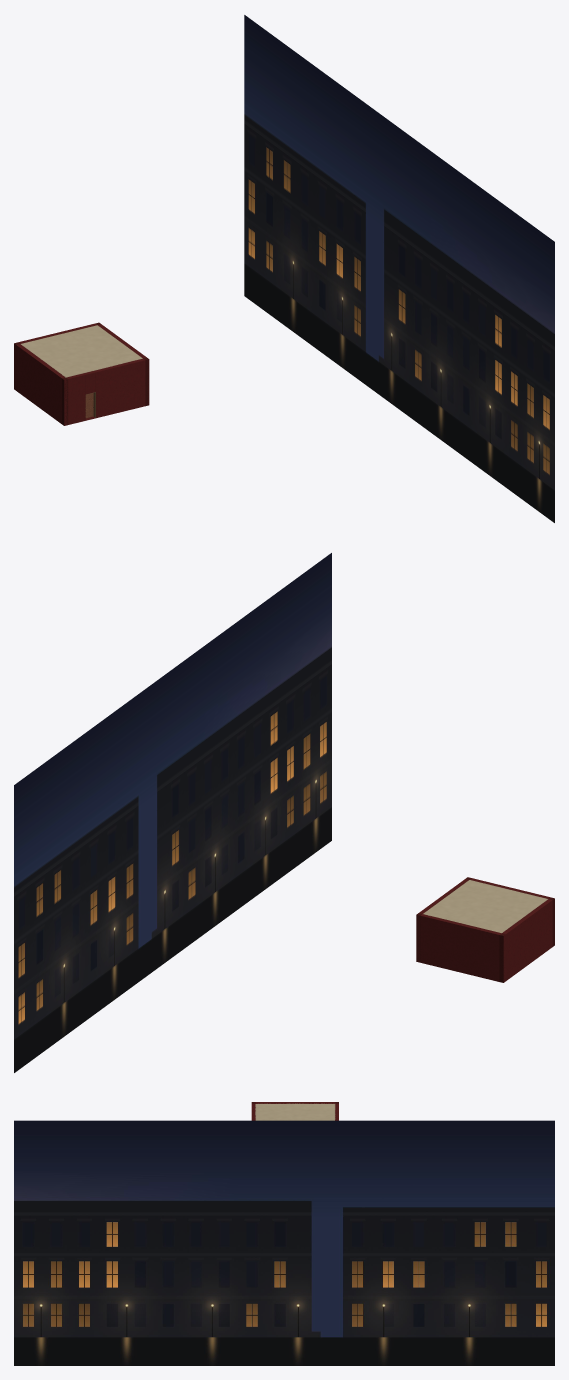
The model's file is reform_club.gltf.
The picture shows the model from 3 angles, top to bottom: view 1: azimuth 30°, elevation 25°; view 2: azimuth 150°, elevation 25°; view 3: azimuth 270°, elevation 25°; orthographic projection. The views are drawn at different scales.
Parts seen in each view (by area): view 1: far.PallMall, MESH_WallDamask, MESH_CeilingPanels; view 2: far.PallMall, MESH_WallDamask, MESH_CeilingPanels; view 3: far.PallMall, MESH_CeilingPanels.
Boxes of the visible parts, <box> form: far.PallMall: <box>244,15,554,522</box>; MESH_WallDamask: <box>14,322,149,425</box>; MESH_CeilingPanels: <box>21,325,142,377</box>; far.PallMall: <box>14,553,331,1072</box>; MESH_WallDamask: <box>416,877,554,982</box>; MESH_CeilingPanels: <box>423,880,547,933</box>; far.PallMall: <box>14,1120,554,1365</box>; MESH_CeilingPanels: <box>255,1103,335,1120</box>.
Bounding box in the file's own units: 39.5 × 30 × 60.
31 materials, 31 textured.
